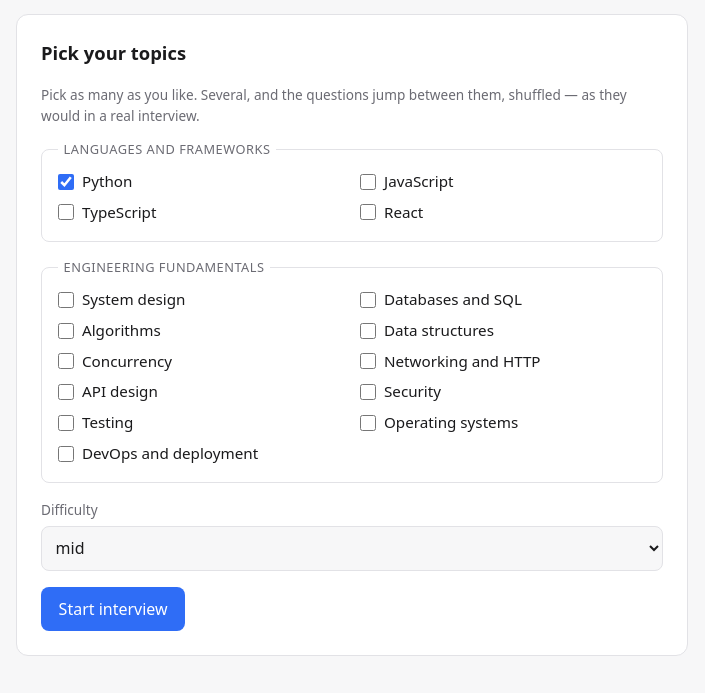
Test case: starting an interview › tags each question with the topic it came from
The width and height of the screenshot is (705, 693).
(page scrolled)
Click the button "Start interview" at (113, 609), box x1=41 y1=587 x2=185 y2=631
(page scrolled)
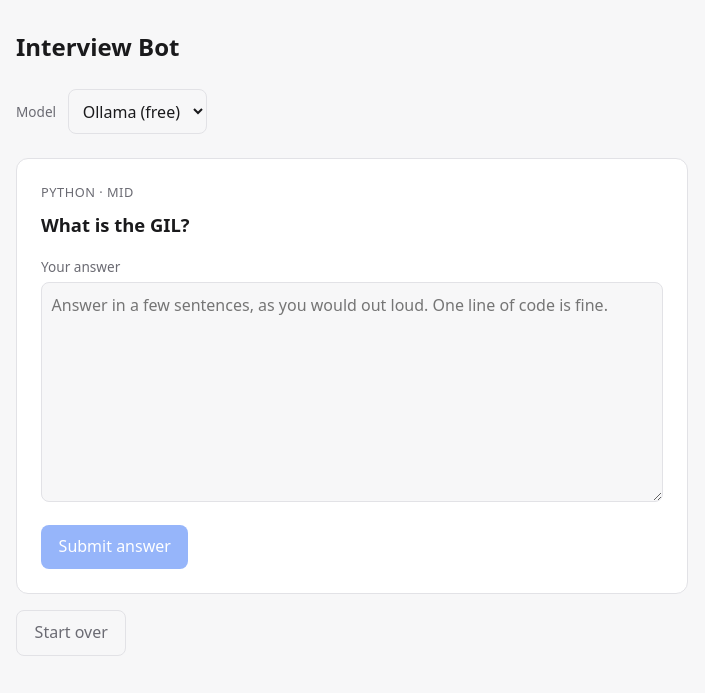
expect the heading "What is the GIL?" is shown: met, box x1=41 y1=212 x2=190 y2=237
expect the text "Python · mid" is shown: met, box x1=41 y1=184 x2=134 y2=202
Type "It is a mutex." into the text box labelled "Your answer" at (352, 392), box x1=41 y1=282 x2=663 y2=502
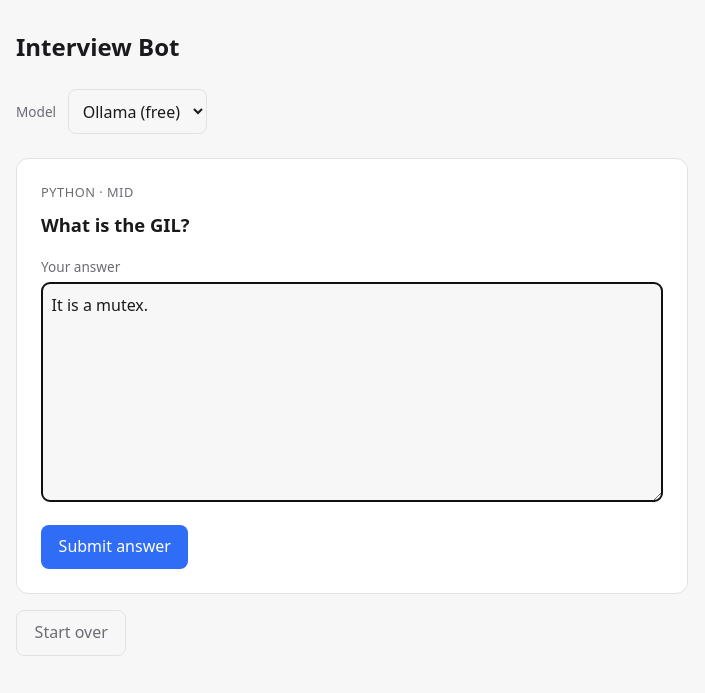
Click the button "Submit answer" at (115, 547), box x1=41 y1=525 x2=188 y2=569
(page scrolled)
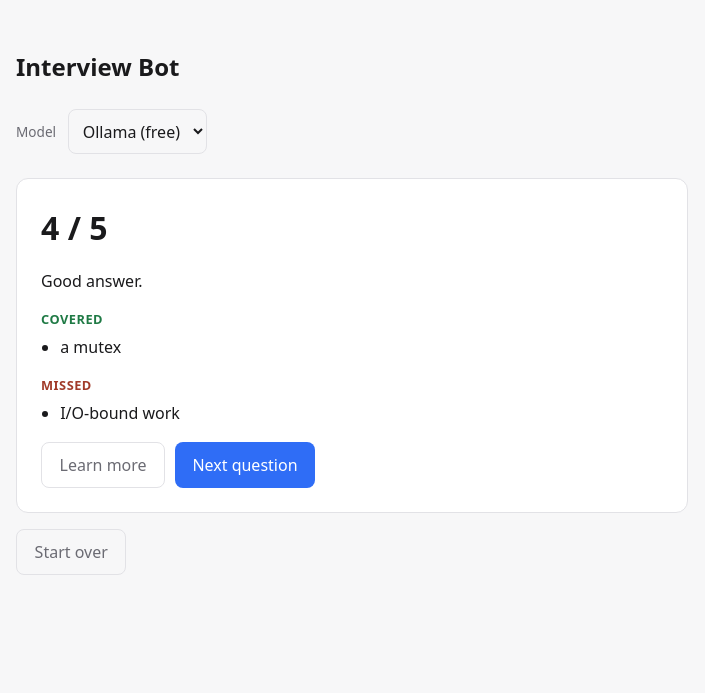
expect the text "4 / 5" is shown: met, box x1=41 y1=206 x2=108 y2=250
Click the button "Next question" at (245, 465), box x1=175 y1=442 x2=315 y2=488
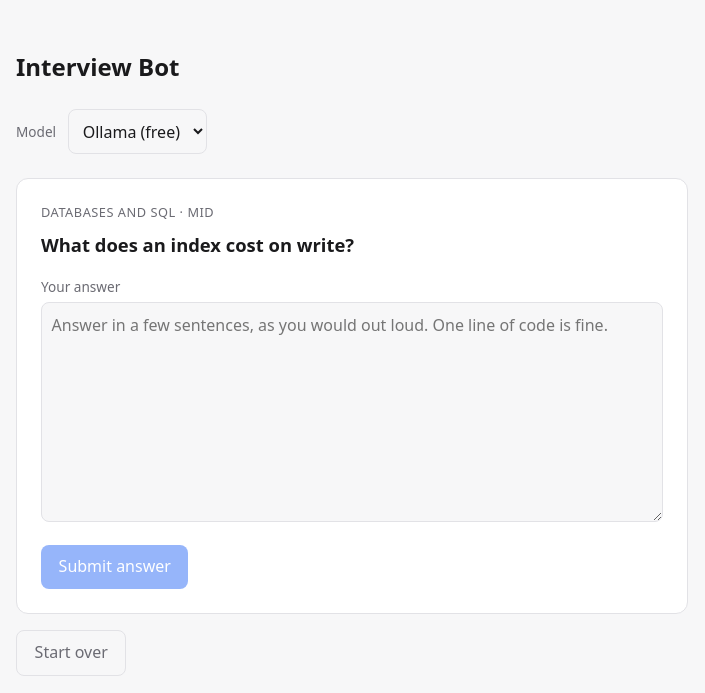
expect the heading "What does an index cost on write?" is shown: met, box x1=41 y1=232 x2=354 y2=257
expect the text "Databases and SQL · mid" is shown: met, box x1=41 y1=204 x2=214 y2=222
